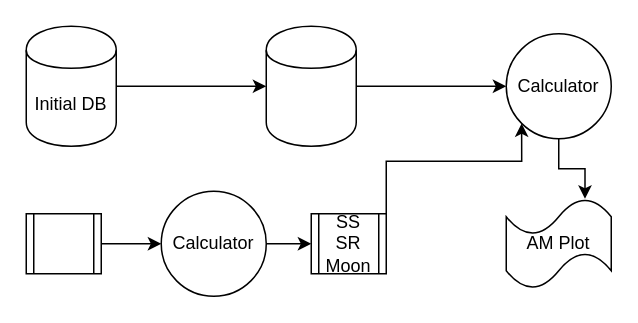
This 638x323 diagram has some shape labels left out. The box of each missing label's shape, as (x1, y1, x2, y2) in pixels:
Add Fl,Fv: (265, 25, 356, 146)
Date: (25, 212, 101, 274)
